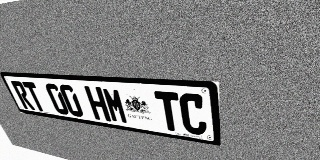0: (58, 84, 85, 118), (44, 83, 70, 115)
C: (178, 93, 207, 136)
H: (84, 86, 111, 122)
M: (101, 87, 129, 124)
R: (10, 81, 35, 110)
T: (154, 91, 183, 132), (22, 82, 47, 112)
